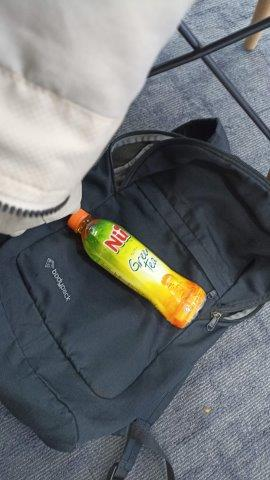botolplastik: (67, 209, 207, 329)
